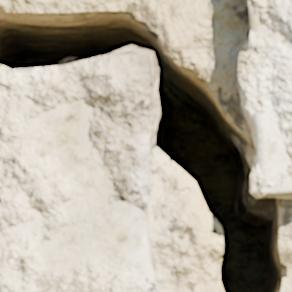brick: (0, 46, 158, 291), (238, 0, 291, 198)
crack: (0, 0, 291, 291)
